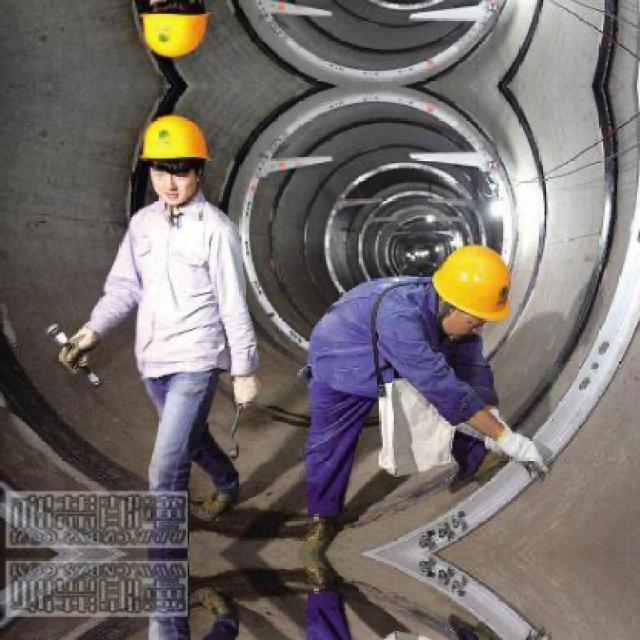con casco: (382, 208, 520, 372), (100, 114, 232, 243)
